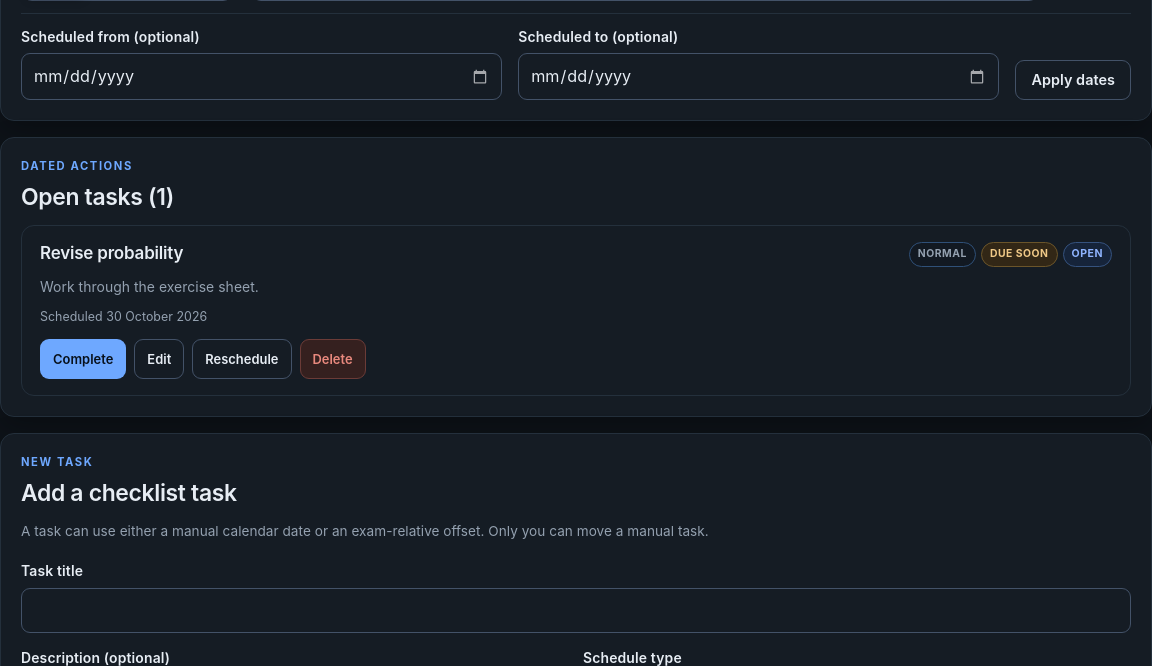
checklist screen › reschedules an open task through the inline date form
(page scrolled)
Expected: the heading "Revise probability" is shown, [40,242,183,265]
Click the button "Reschedule" at (242, 360), box [192,340,292,380]
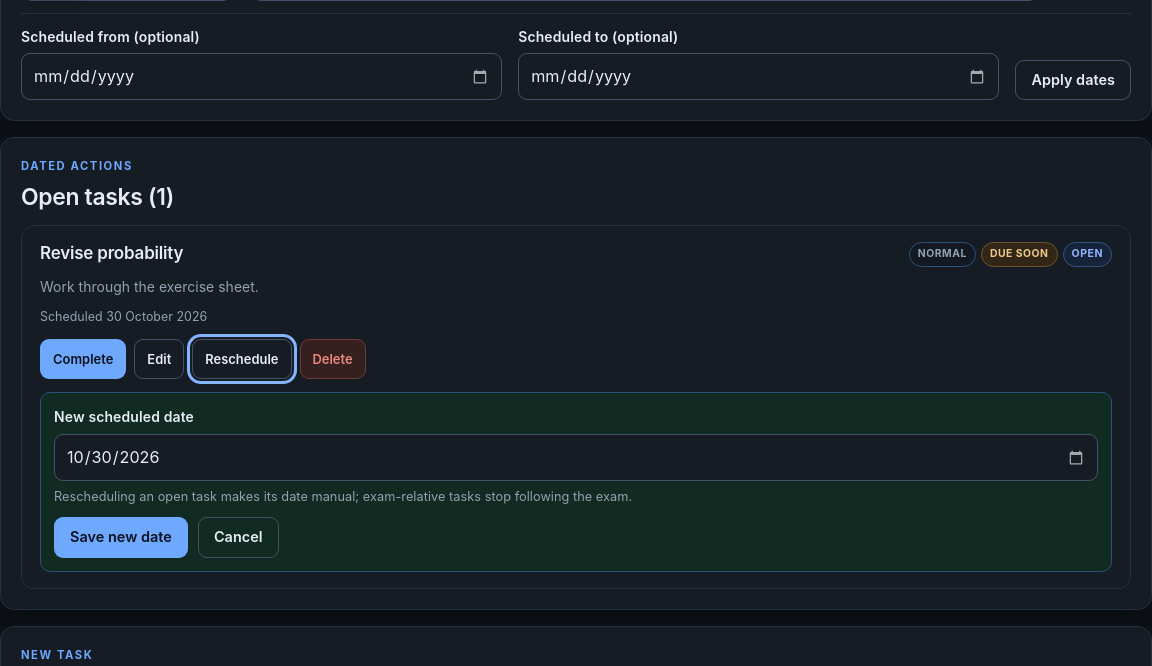
Type "2026-11-10" into the date field labelled "New scheduled date" at (576, 458), box [54,434,1098,481]
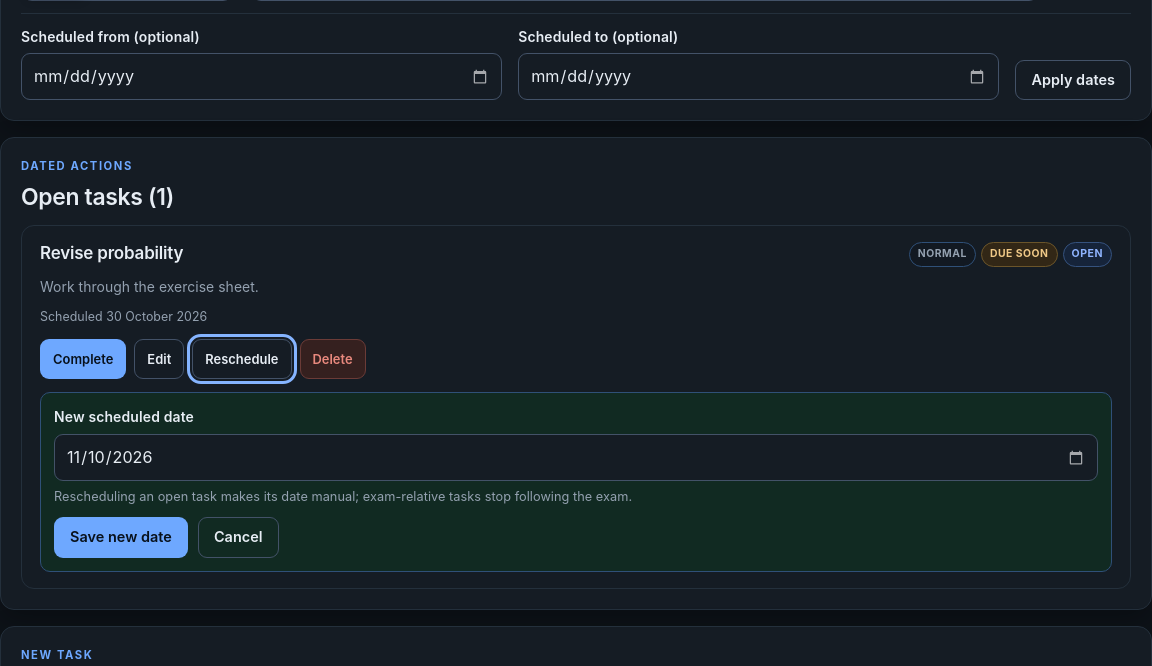
Click the button "Save new date" at (121, 537), box [54,517,188,558]
(page scrolled)
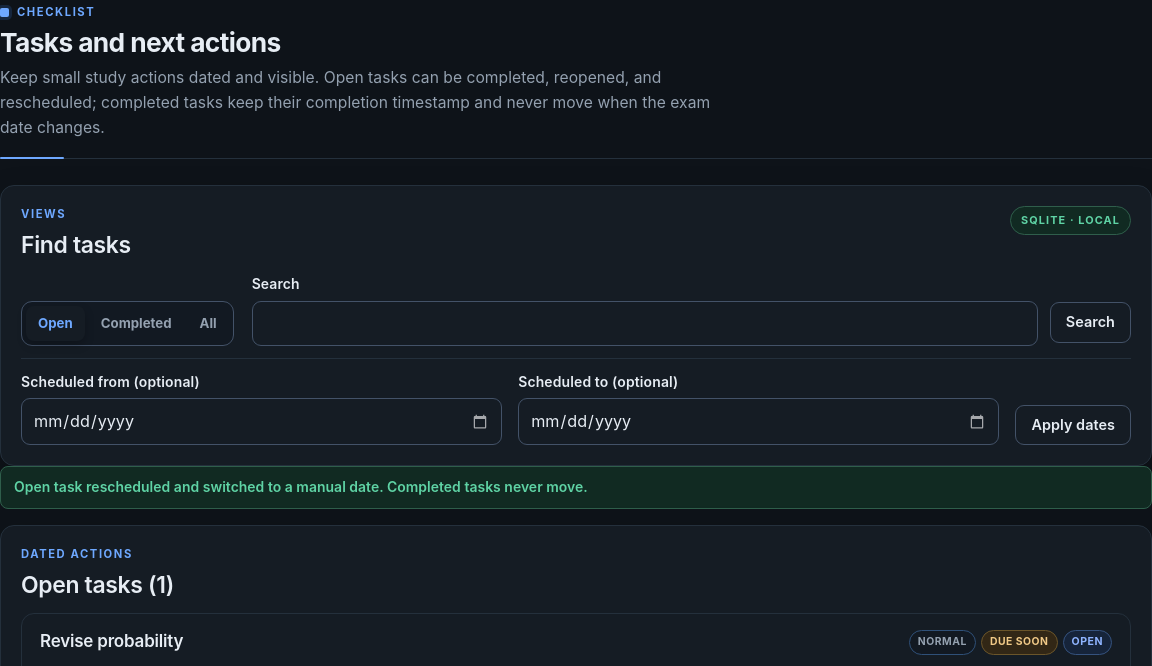
Result: the text "Open task rescheduled and switched to a manual date. Completed tasks never move." is shown at [0,466,1151,509]
